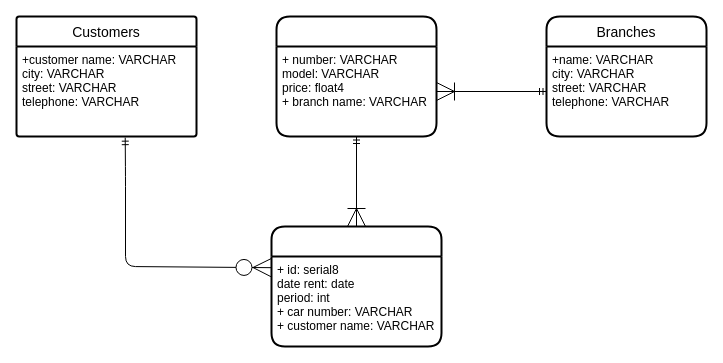
Some shapes in this 723 by 363 pixel diagram are drawn without their labels. Each missing label, with the box of its shape:
Cars: (275, 15, 437, 137)
Orders: (270, 225, 442, 347)
